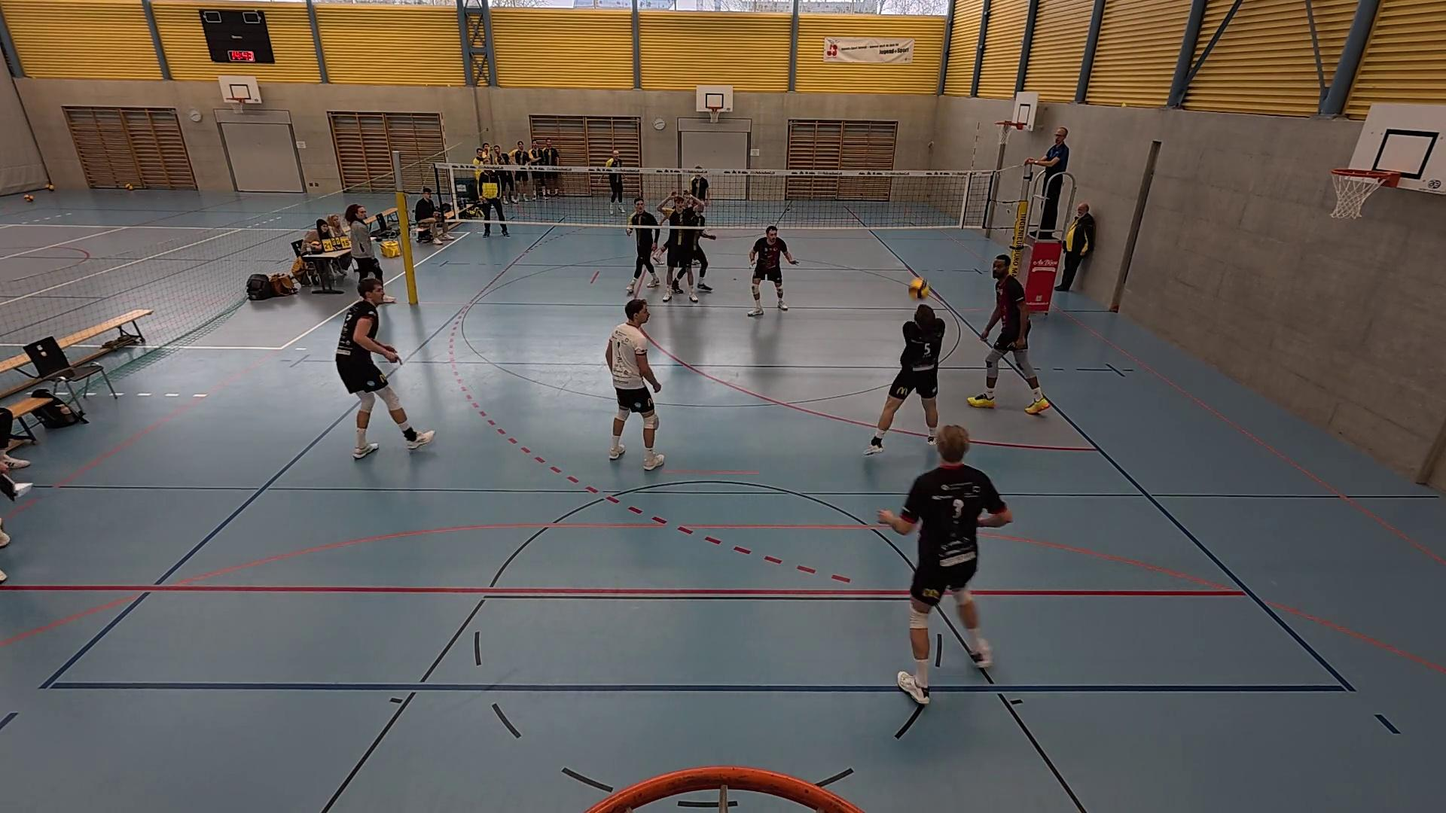Player: (881, 425, 1011, 705), (337, 276, 435, 458), (969, 254, 1049, 416), (604, 297, 664, 469), (660, 199, 712, 305), (747, 226, 795, 317), (629, 195, 664, 295), (685, 192, 718, 290), (654, 191, 686, 288), (595, 152, 630, 216), (688, 166, 711, 212)
Receive: (865, 285, 947, 455)
ball: (909, 277, 929, 297)
